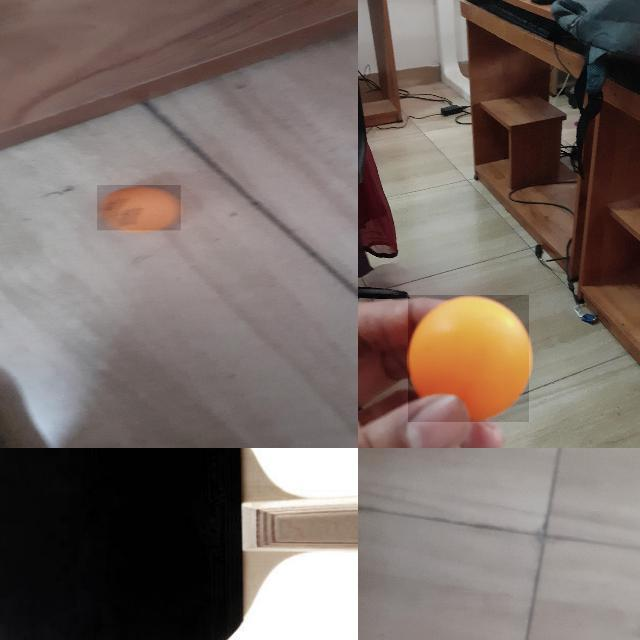ping-pong-ball: (408, 295, 530, 423), (96, 185, 182, 231)
